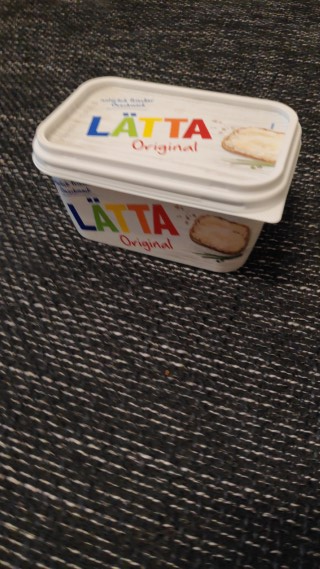laetta: (30, 75, 303, 274)
